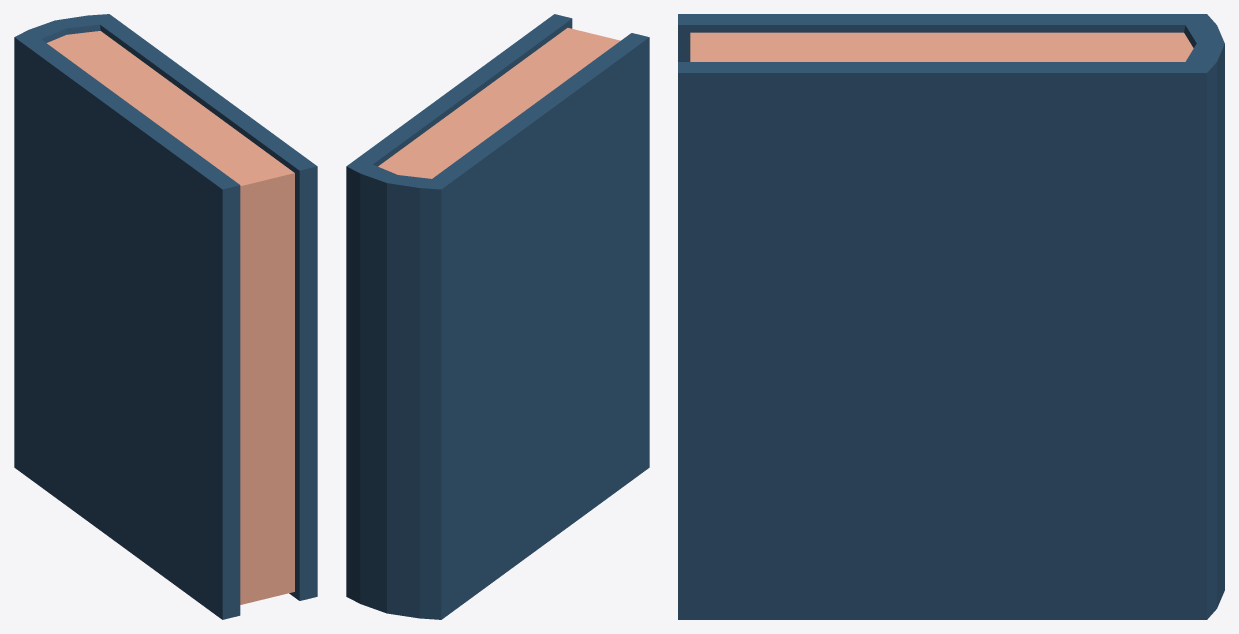
The model's file is book.fbx.
3 views of the same model, side by side, from view 1: azimuth 30°, elevation 25°; view 2: azimuth 150°, elevation 25°; view 3: azimuth 270°, elevation 25° (orthographic). The views are drawn at different scales.
Parts seen in each view (by area): view 1: Book; view 2: Book; view 3: Book.
Part boxes in pixels (<box>): Book: <box>14,14,317,619</box>; Book: <box>346,14,649,619</box>; Book: <box>678,14,1224,619</box>.
Bounding box in the file's own units: 6.17 × 26.68 × 24.17.
Materials: 1 (1 with a texture image).
